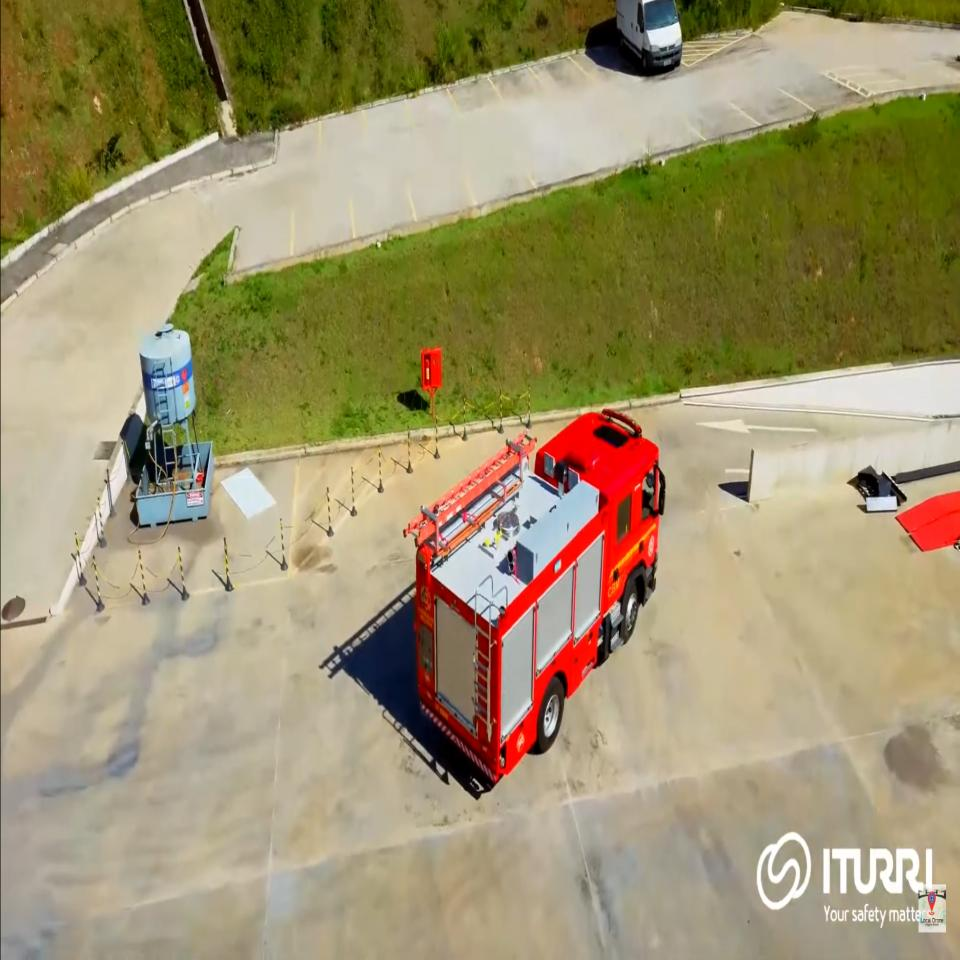viatura: (403, 406, 667, 792)
